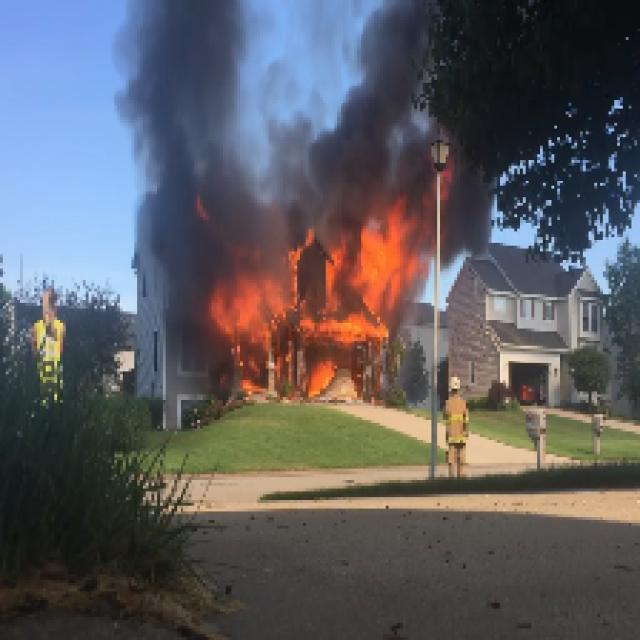Fire: (208, 223, 418, 346)
Smoke: (268, 2, 432, 198), (122, 2, 258, 188), (137, 198, 197, 326)
